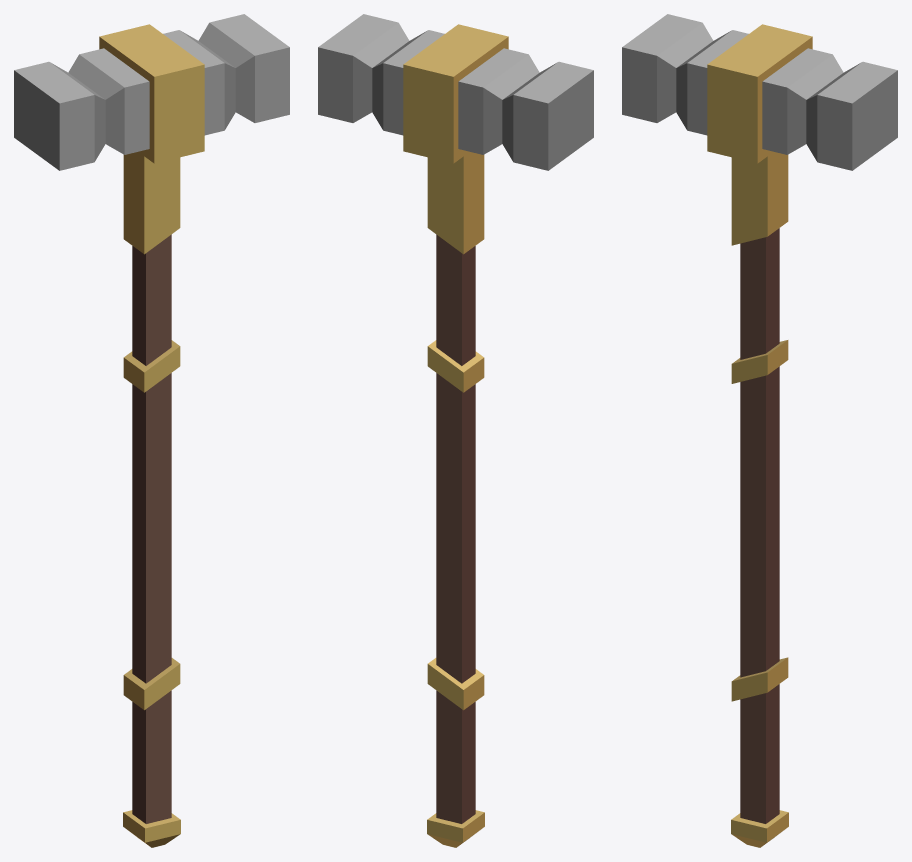
File: SF_Wep_Elven_Hammer_01.fbx
3 views of the same model, side by side, from view 1: azimuth 30°, elevation 25°; view 2: azimuth 150°, elevation 25°; view 3: azimuth 330°, elevation 25° (orthographic).
Visible parts, largest first — view 1: SF_Wep_Elven_Hammer_01; view 2: SF_Wep_Elven_Hammer_01; view 3: SF_Wep_Elven_Hammer_01.
Boxes of the visible parts, x1=… form: SF_Wep_Elven_Hammer_01: x1=14, y1=14, x2=289, y2=847; SF_Wep_Elven_Hammer_01: x1=318, y1=14, x2=593, y2=847; SF_Wep_Elven_Hammer_01: x1=622, y1=14, x2=897, y2=847.
Size of the model in its own units: 0.8669 by 2.84 by 0.3593.
